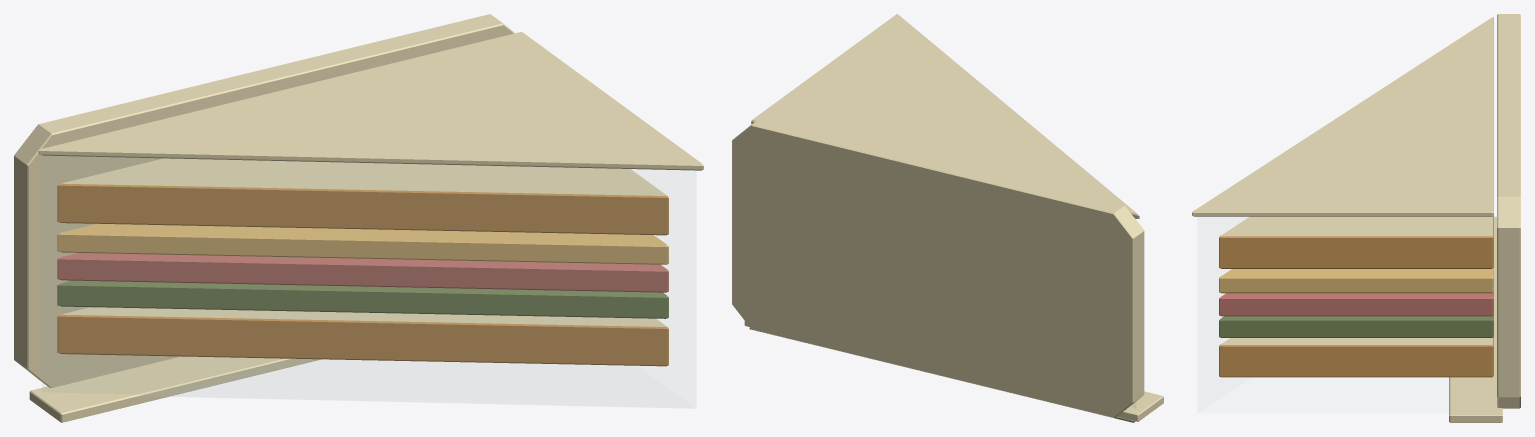
File: sandwich.glb
3 renders of one model, left to right at view 1: azimuth 30°, elevation 25°; view 2: azimuth 150°, elevation 25°; view 3: azimuth 270°, elevation 25°, orthographic. The views are drawn at different scales.
Visible parts, largest first — view 1: sandwich; view 2: sandwich; view 3: sandwich.
Part boxes in pixels (x1=…): sandwich: x1=14, y1=14, x2=703, y2=422; sandwich: x1=732, y1=14, x2=1163, y2=422; sandwich: x1=1192, y1=14, x2=1520, y2=422.
Size of the model in its own units: 0.16 by 0.0813 by 0.1098.
